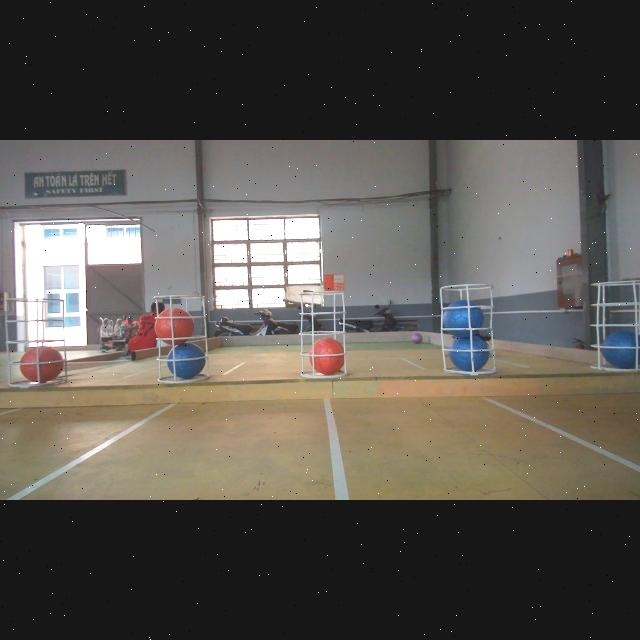B: (602, 330, 640, 370), (442, 300, 484, 336), (167, 344, 206, 378), (449, 336, 488, 370)
R: (20, 346, 64, 384), (154, 308, 193, 344), (310, 338, 344, 376)
